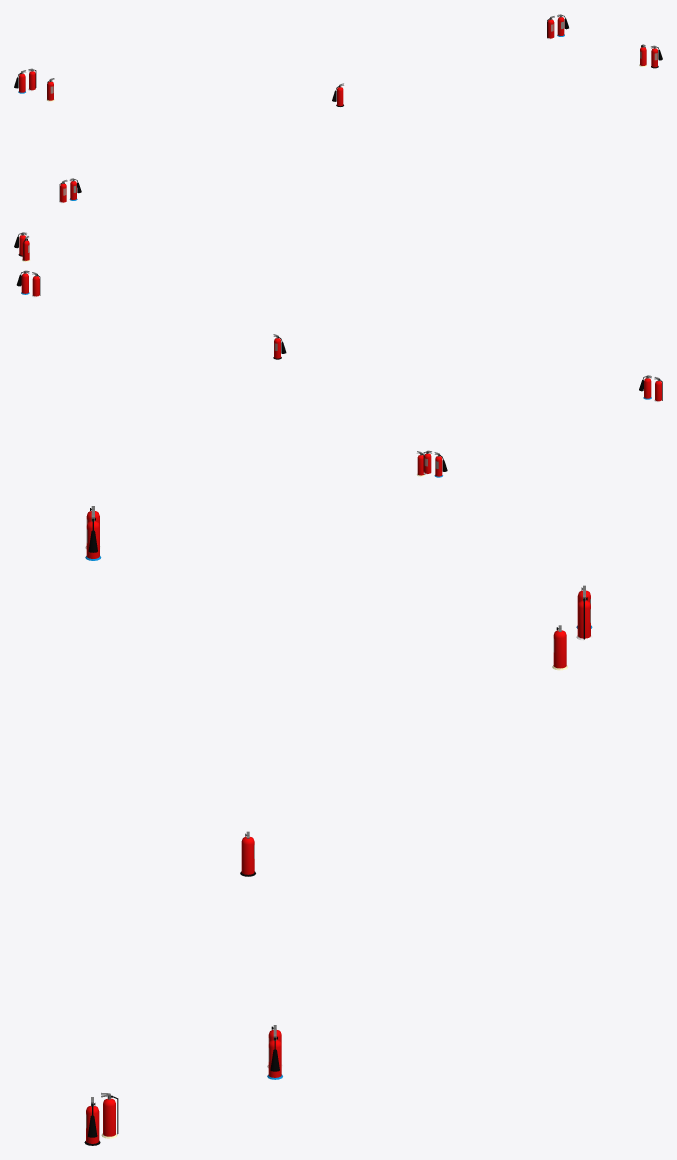
Rendered from extinguishers.fbx.
3 renders of one model, top to bottom at view 1: azimuth 30°, elevation 25°; view 2: azimuth 150°, elevation 25°; view 3: azimuth 270°, elevation 25°, orthographic. The views are drawn at different scales.
Size of the model in its own units: 1909 by 92.36 by 696.
